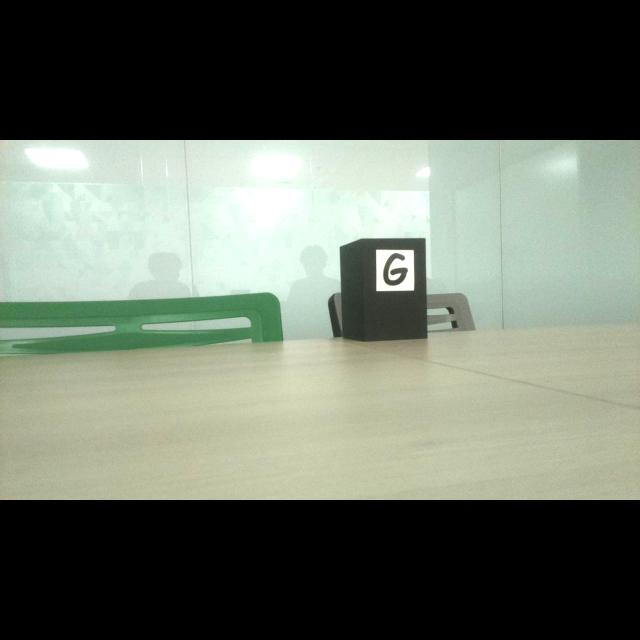G: (383, 253, 408, 286)
